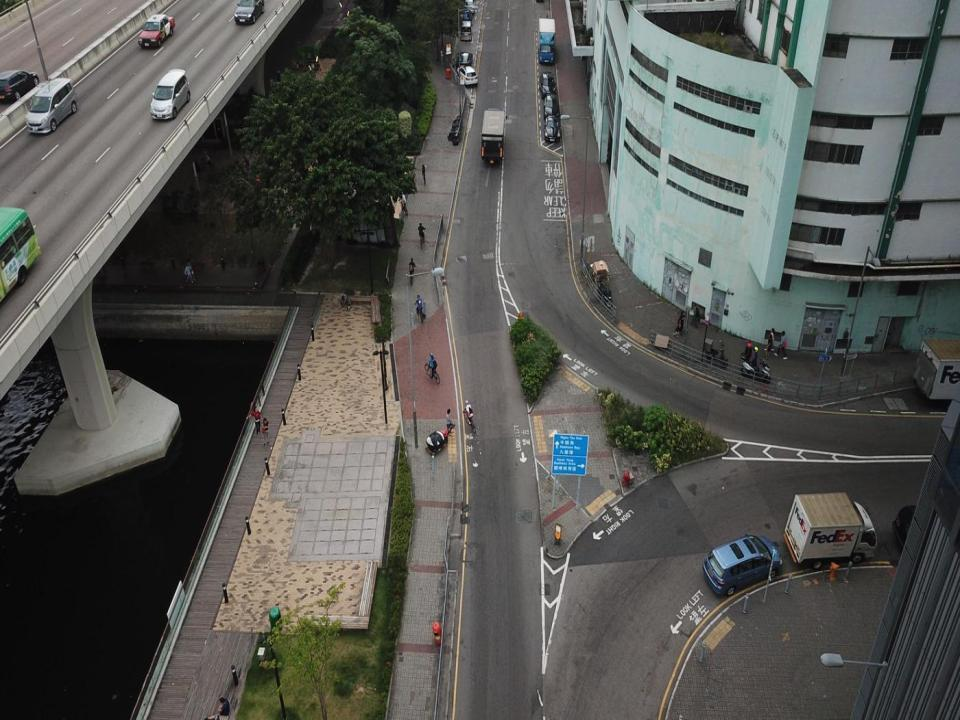bus: (0, 208, 40, 308)
car: (701, 532, 784, 596), (138, 13, 175, 49), (0, 70, 39, 104), (233, 0, 265, 26), (455, 65, 479, 88), (543, 115, 561, 144), (543, 92, 560, 120), (539, 69, 555, 98), (456, 49, 472, 70)
truck: (783, 490, 877, 570), (910, 336, 960, 408), (481, 107, 505, 166), (537, 16, 556, 66)
van: (25, 78, 79, 134), (148, 68, 191, 118), (460, 19, 472, 42)
